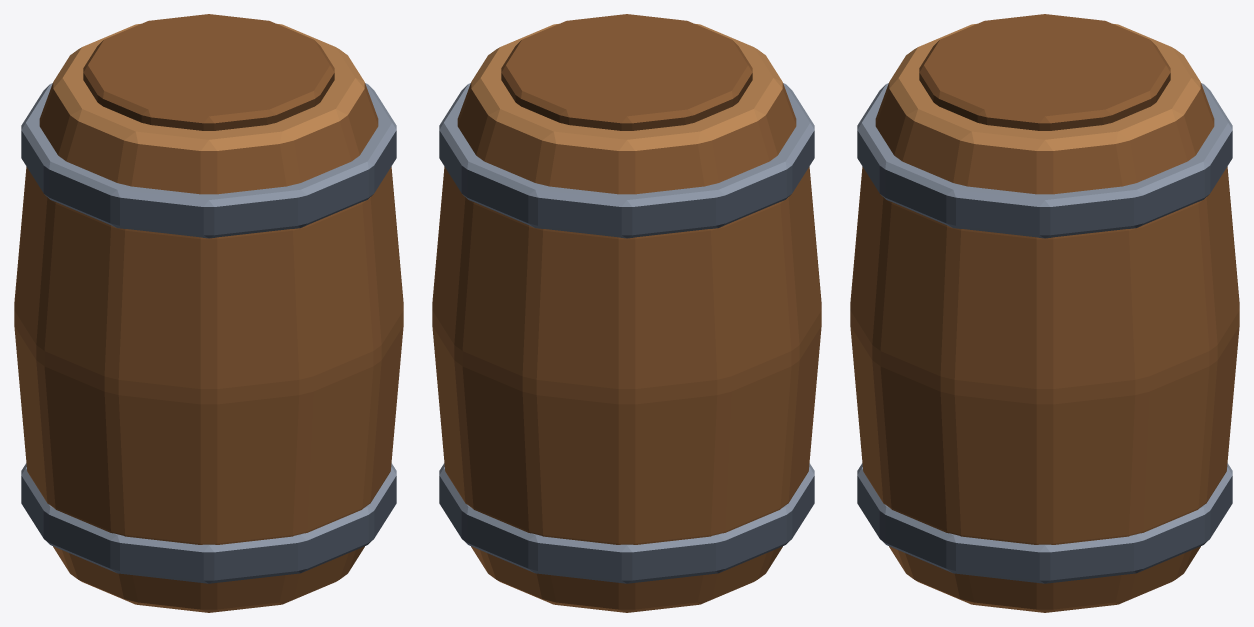
File: barril.fbx
3 renders of one model, left to right at view 1: azimuth 30°, elevation 25°; view 2: azimuth 150°, elevation 25°; view 3: azimuth 270°, elevation 25°, orthographic.
Visible parts, largest first — view 1: barril; view 2: barril; view 3: barril.
Part boxes in pixels (<box>): barril: <box>14,14,403,612</box>; barril: <box>432,14,821,612</box>; barril: <box>850,14,1239,612</box>.
Size of the model in its own units: 55.19 by 76 by 55.19.
